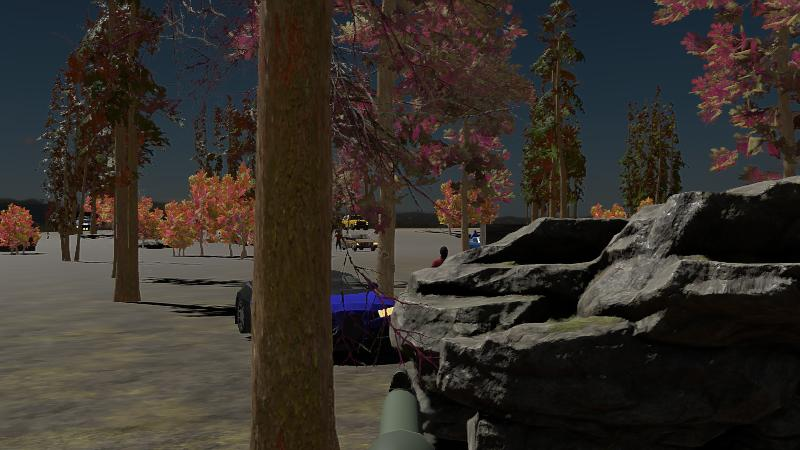car: (233, 267, 397, 360), (334, 228, 382, 254), (336, 211, 371, 233)
